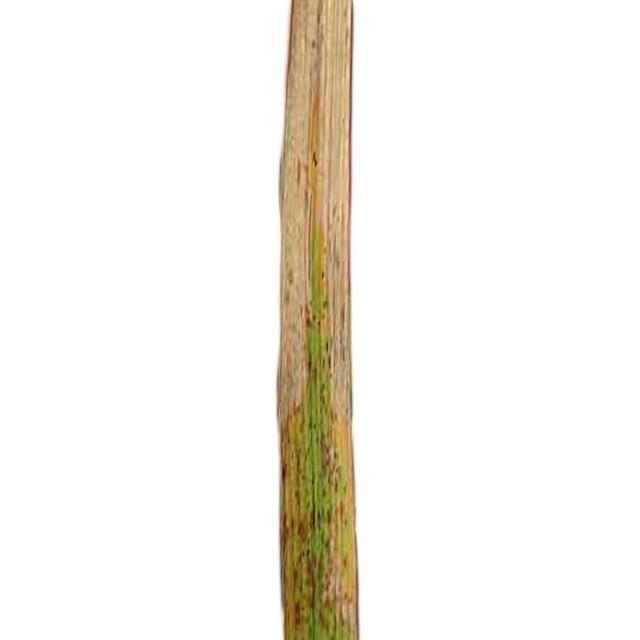Leaf scald: (196, 0, 474, 640)
